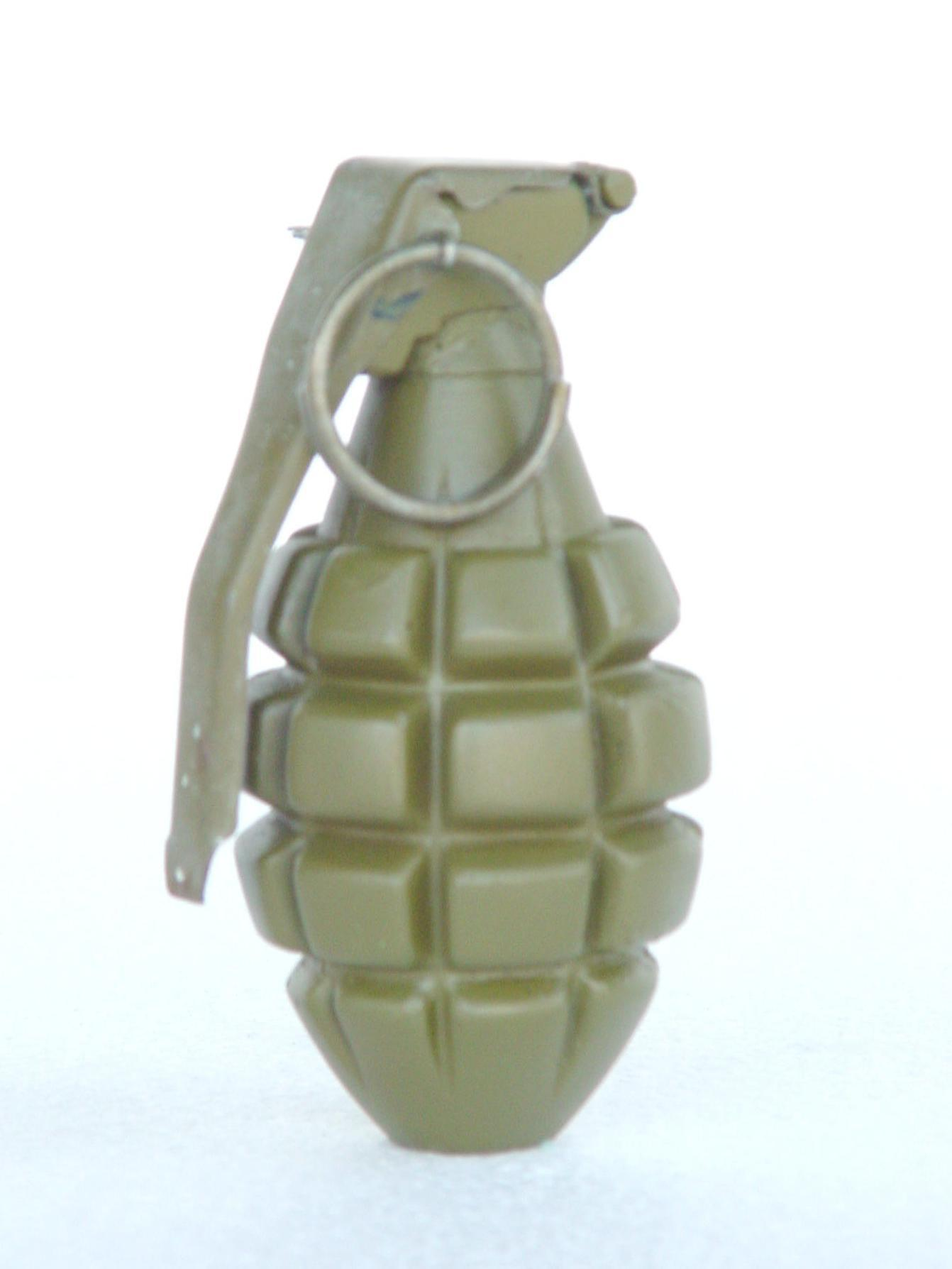Grenade: (163, 155, 715, 1158)
